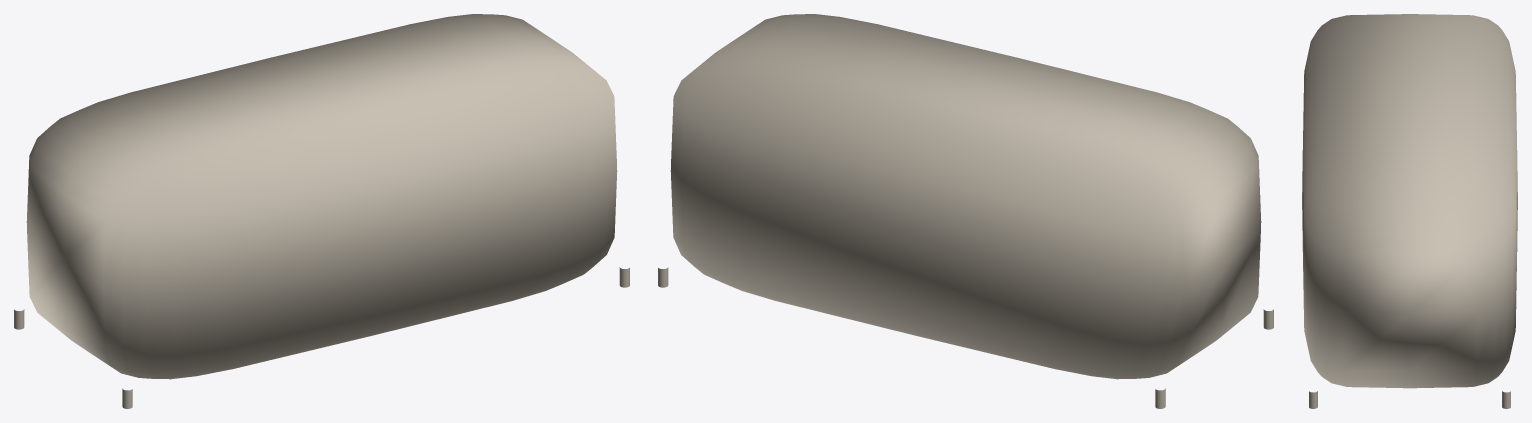
File: ikea-strandmon-50510958-g2-proxy.glb
3 renders of one model, left to right at view 1: azimuth 30°, elevation 25°; view 2: azimuth 150°, elevation 25°; view 3: azimuth 270°, elevation 25°, orthographic. The views are drawn at different scales.
Visible parts, largest first — view 1: proxy_body; view 2: proxy_body; view 3: proxy_body.
Part boxes in pixels (x1,y1,x2,y2): proxy_body: (26, 14, 617, 379); proxy_body: (670, 14, 1261, 379); proxy_body: (1302, 14, 1517, 388).
Bounding box in the file's own units: 2.35 × 0.95 × 0.95.
